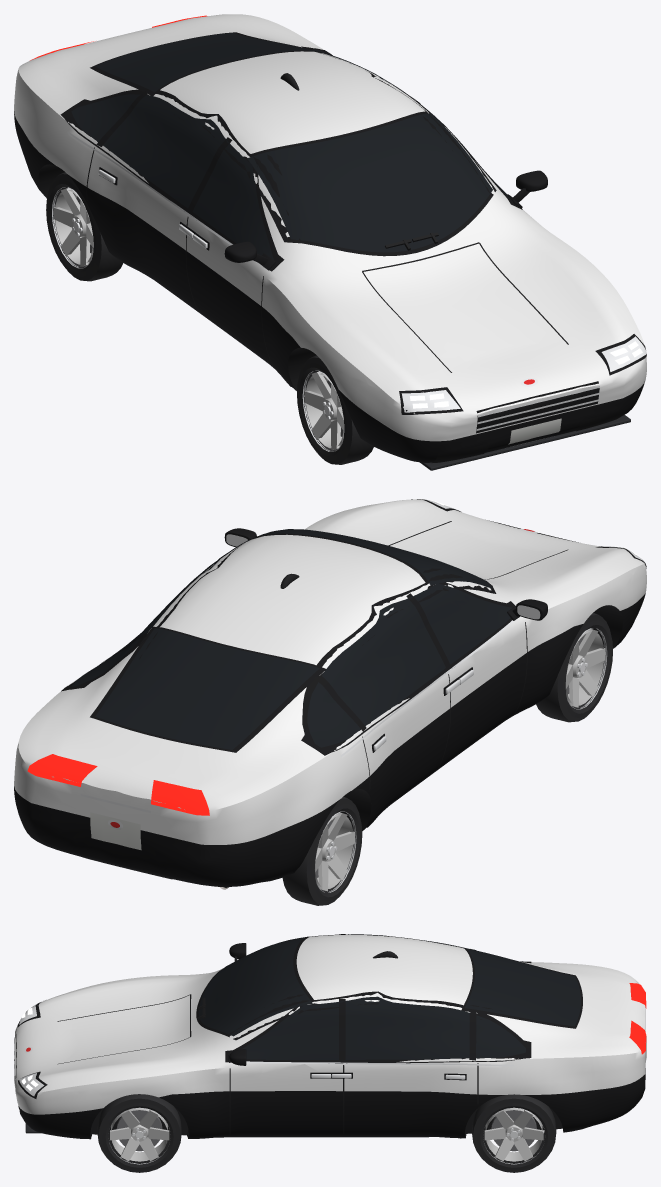
The model's file is tr_police.glb.
3 views of the same model, one above another, from view 1: azimuth 30°, elevation 25°; view 2: azimuth 150°, elevation 25°; view 3: azimuth 270°, elevation 25° (orthographic). The views are drawn at different scales.
Visible parts, largest first — view 1: Body, Wheel_RR, Wheel_FR; view 2: Body, Wheel_RR, Wheel_FR; view 3: Body, Wheel_FL, Wheel_RL.
Boxes of the visible parts, x1=… form: Body: x1=14, y1=14, x2=646, y2=470; Wheel_RR: x1=46, y1=172, x2=122, y2=281; Wheel_FR: x1=297, y1=355, x2=373, y2=464; Body: x1=14, y1=499, x2=646, y2=889; Wheel_RR: x1=282, y1=796, x2=362, y2=905; Wheel_FR: x1=536, y1=612, x2=612, y2=722; Body: x1=14, y1=934, x2=646, y2=1139; Wheel_FL: x1=97, y1=1094, x2=181, y2=1172; Wheel_RL: x1=472, y1=1094, x2=556, y2=1172.
Bounding box in the file's own units: 2.09 × 1.47 × 4.82.
